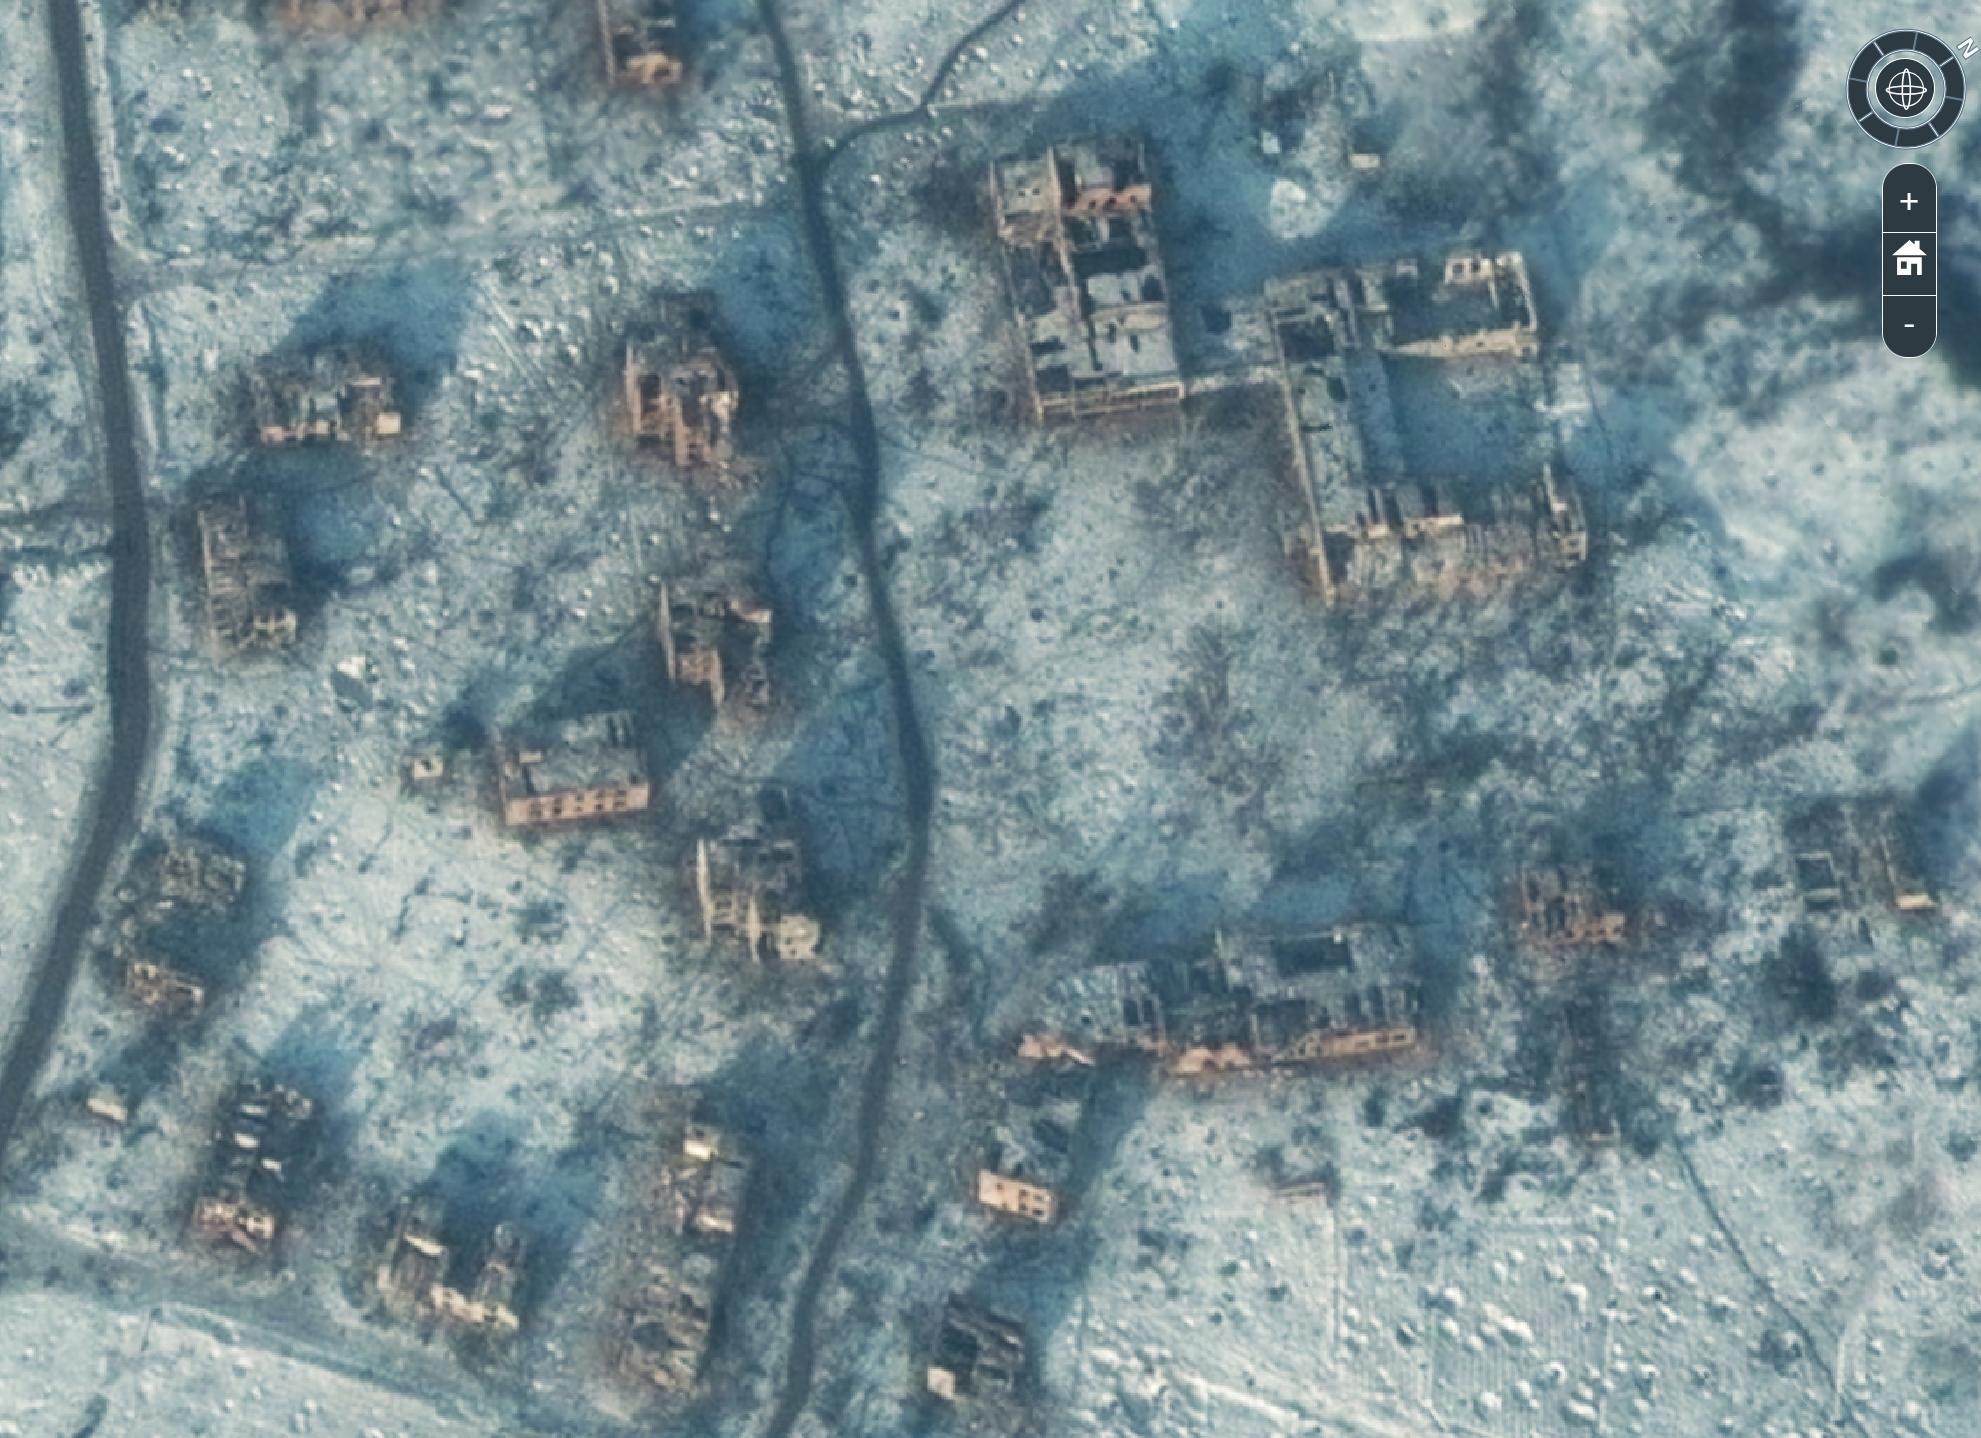demaged-building-high: (1266, 251, 1621, 624), (949, 143, 1212, 458), (1035, 929, 1458, 1057), (598, 1109, 775, 1409), (594, 289, 794, 503), (1766, 763, 1964, 963), (209, 323, 451, 474), (646, 549, 817, 711), (683, 801, 846, 969), (1484, 823, 1641, 986), (961, 1049, 1090, 1233), (483, 697, 664, 821), (378, 1198, 538, 1332)
